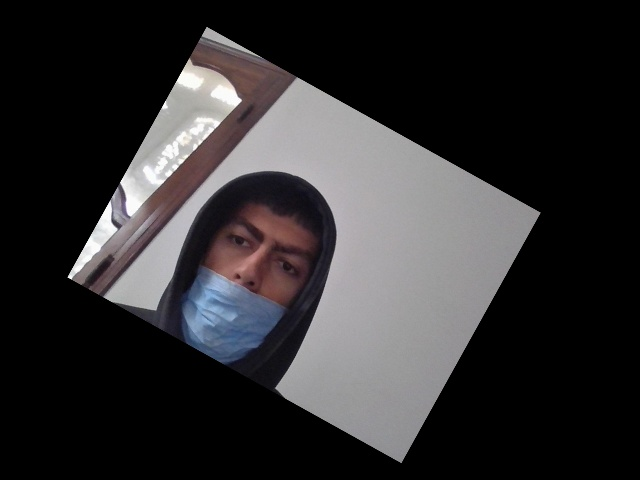mask_weared_incorrect: (183, 201, 316, 365)
